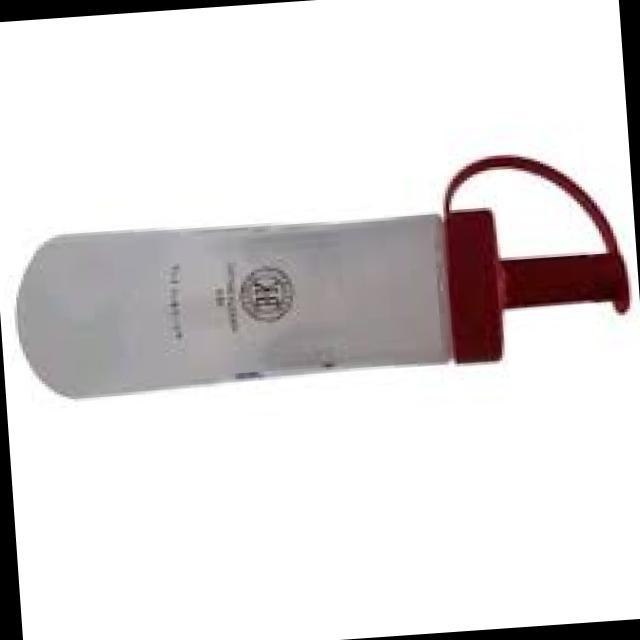good: (26, 111, 640, 435)
